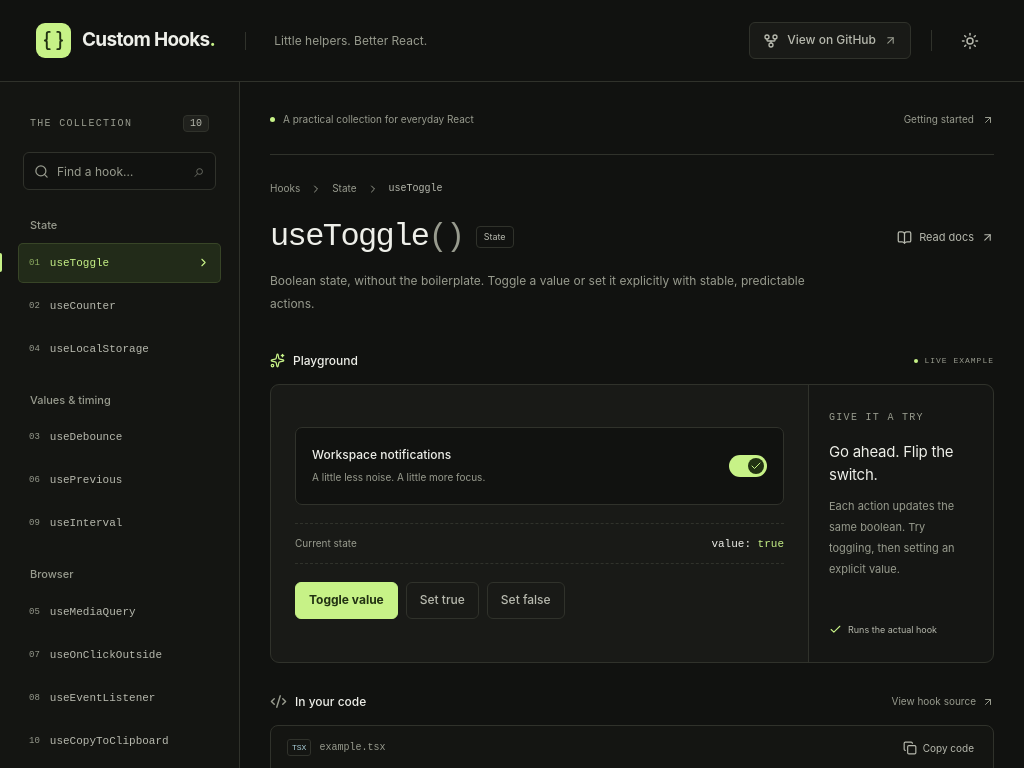
Scenario: playground › starts, pauses, and resets the real interval hook
The width and height of the screenshot is (1024, 768).
Click the link "09 useInterval" at (76, 523), box 29,517 -> 122,529
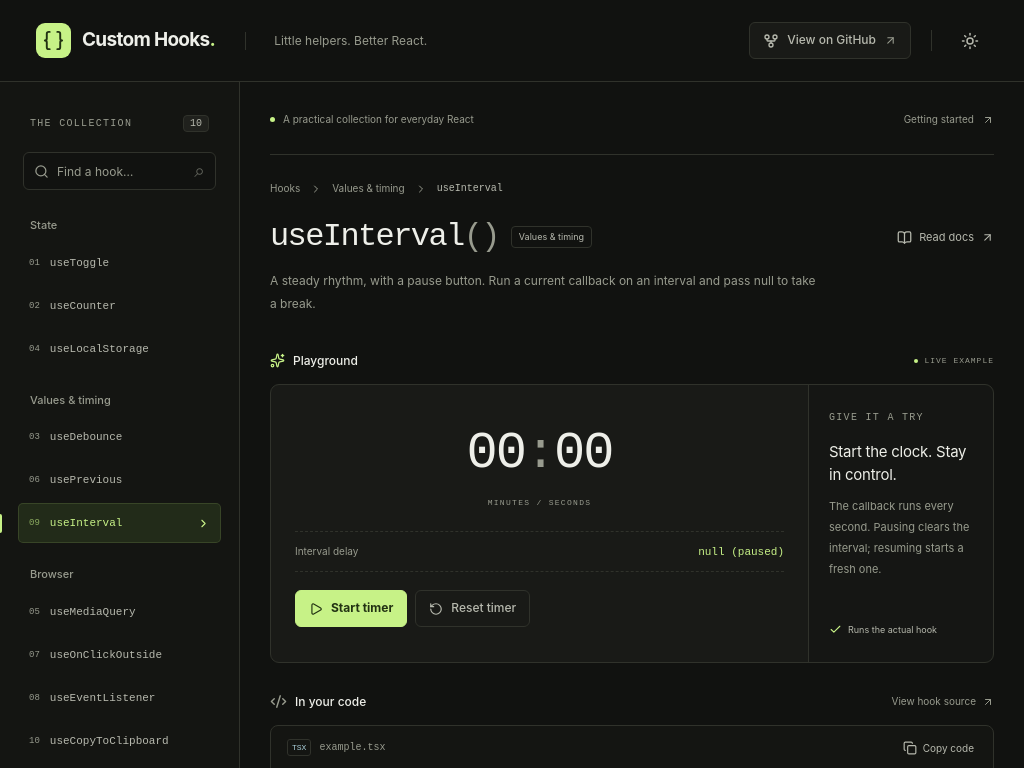
Click the button "Start timer" at (351, 609), box 295,590 -> 407,627
Wait 2000 ms
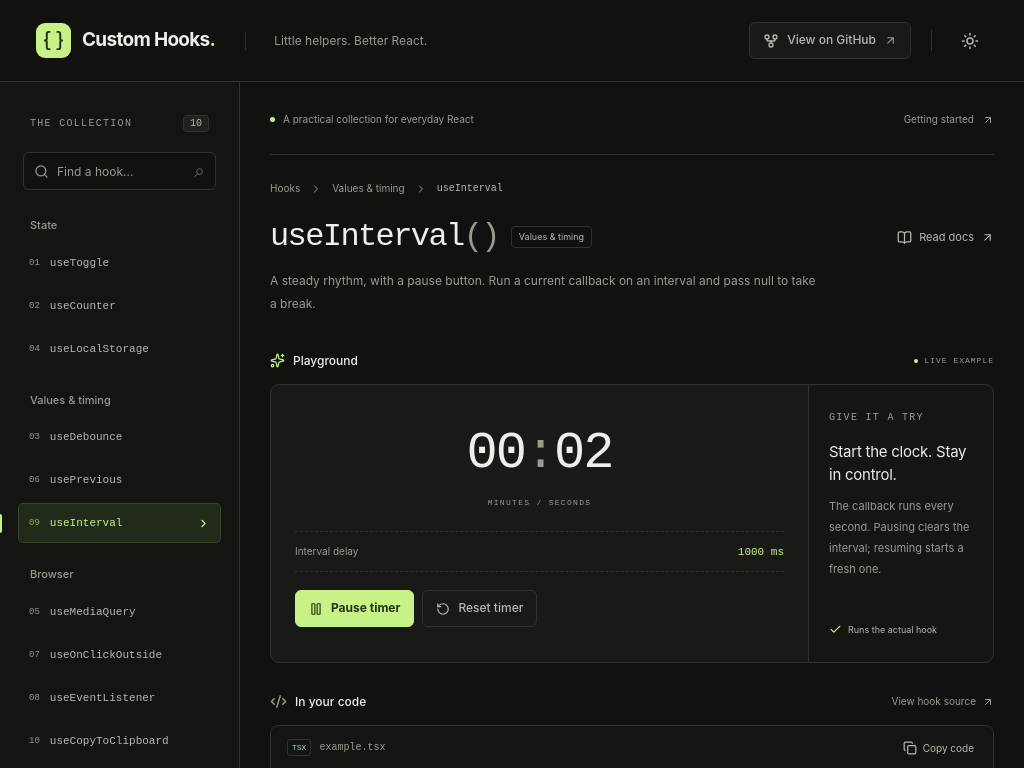
expect the element named "Elapsed seconds" reads "00:02": met, box 466,424 -> 613,483
Click the button "Pause timer" at (355, 609), box 295,590 -> 414,627
Wait 2000 ms
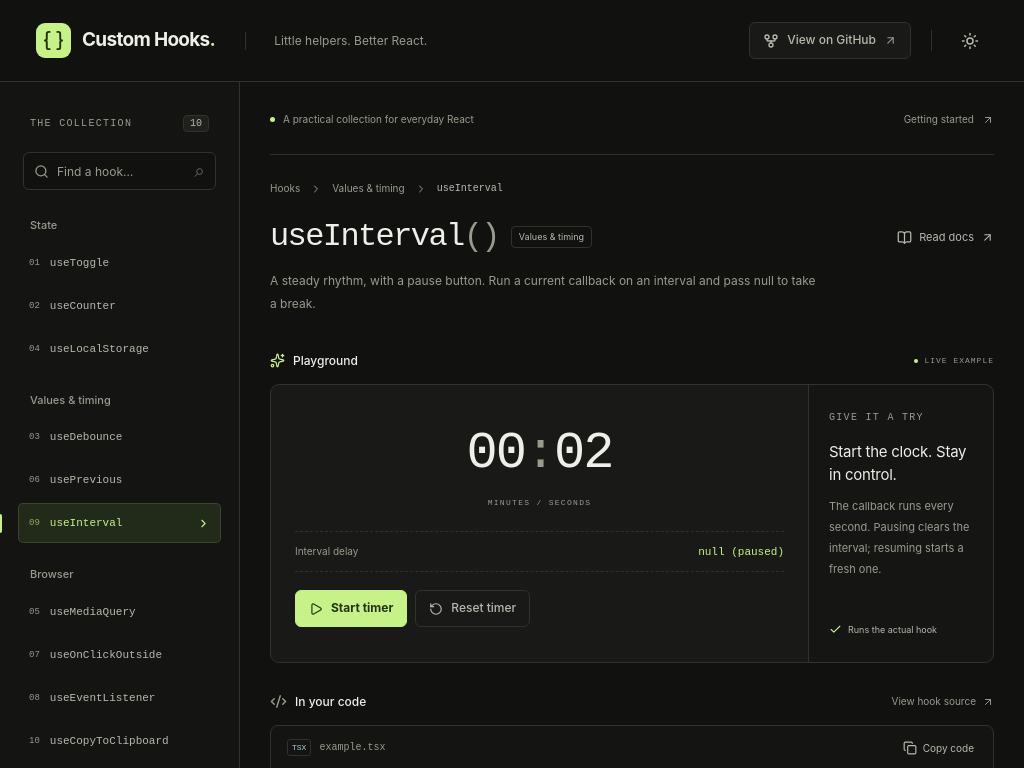
expect the element named "Elapsed seconds" reads "00:02": met, box 466,424 -> 613,483
Click the button "Reset timer" at (473, 609), box 415,590 -> 530,627
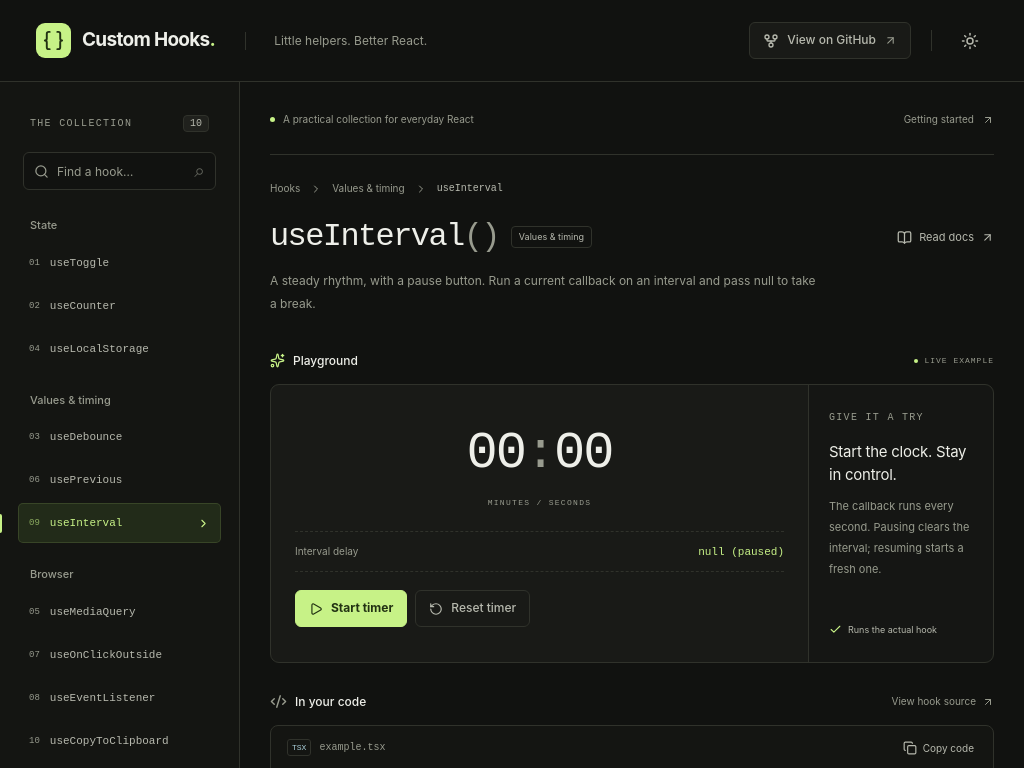
expect the element named "Elapsed seconds" reads "00:00": met, box 466,424 -> 613,483
